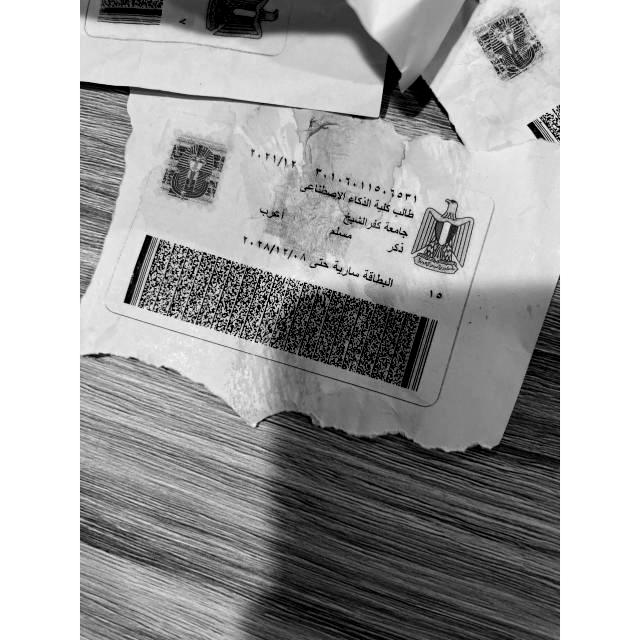id_card: (81, 90, 559, 448)
